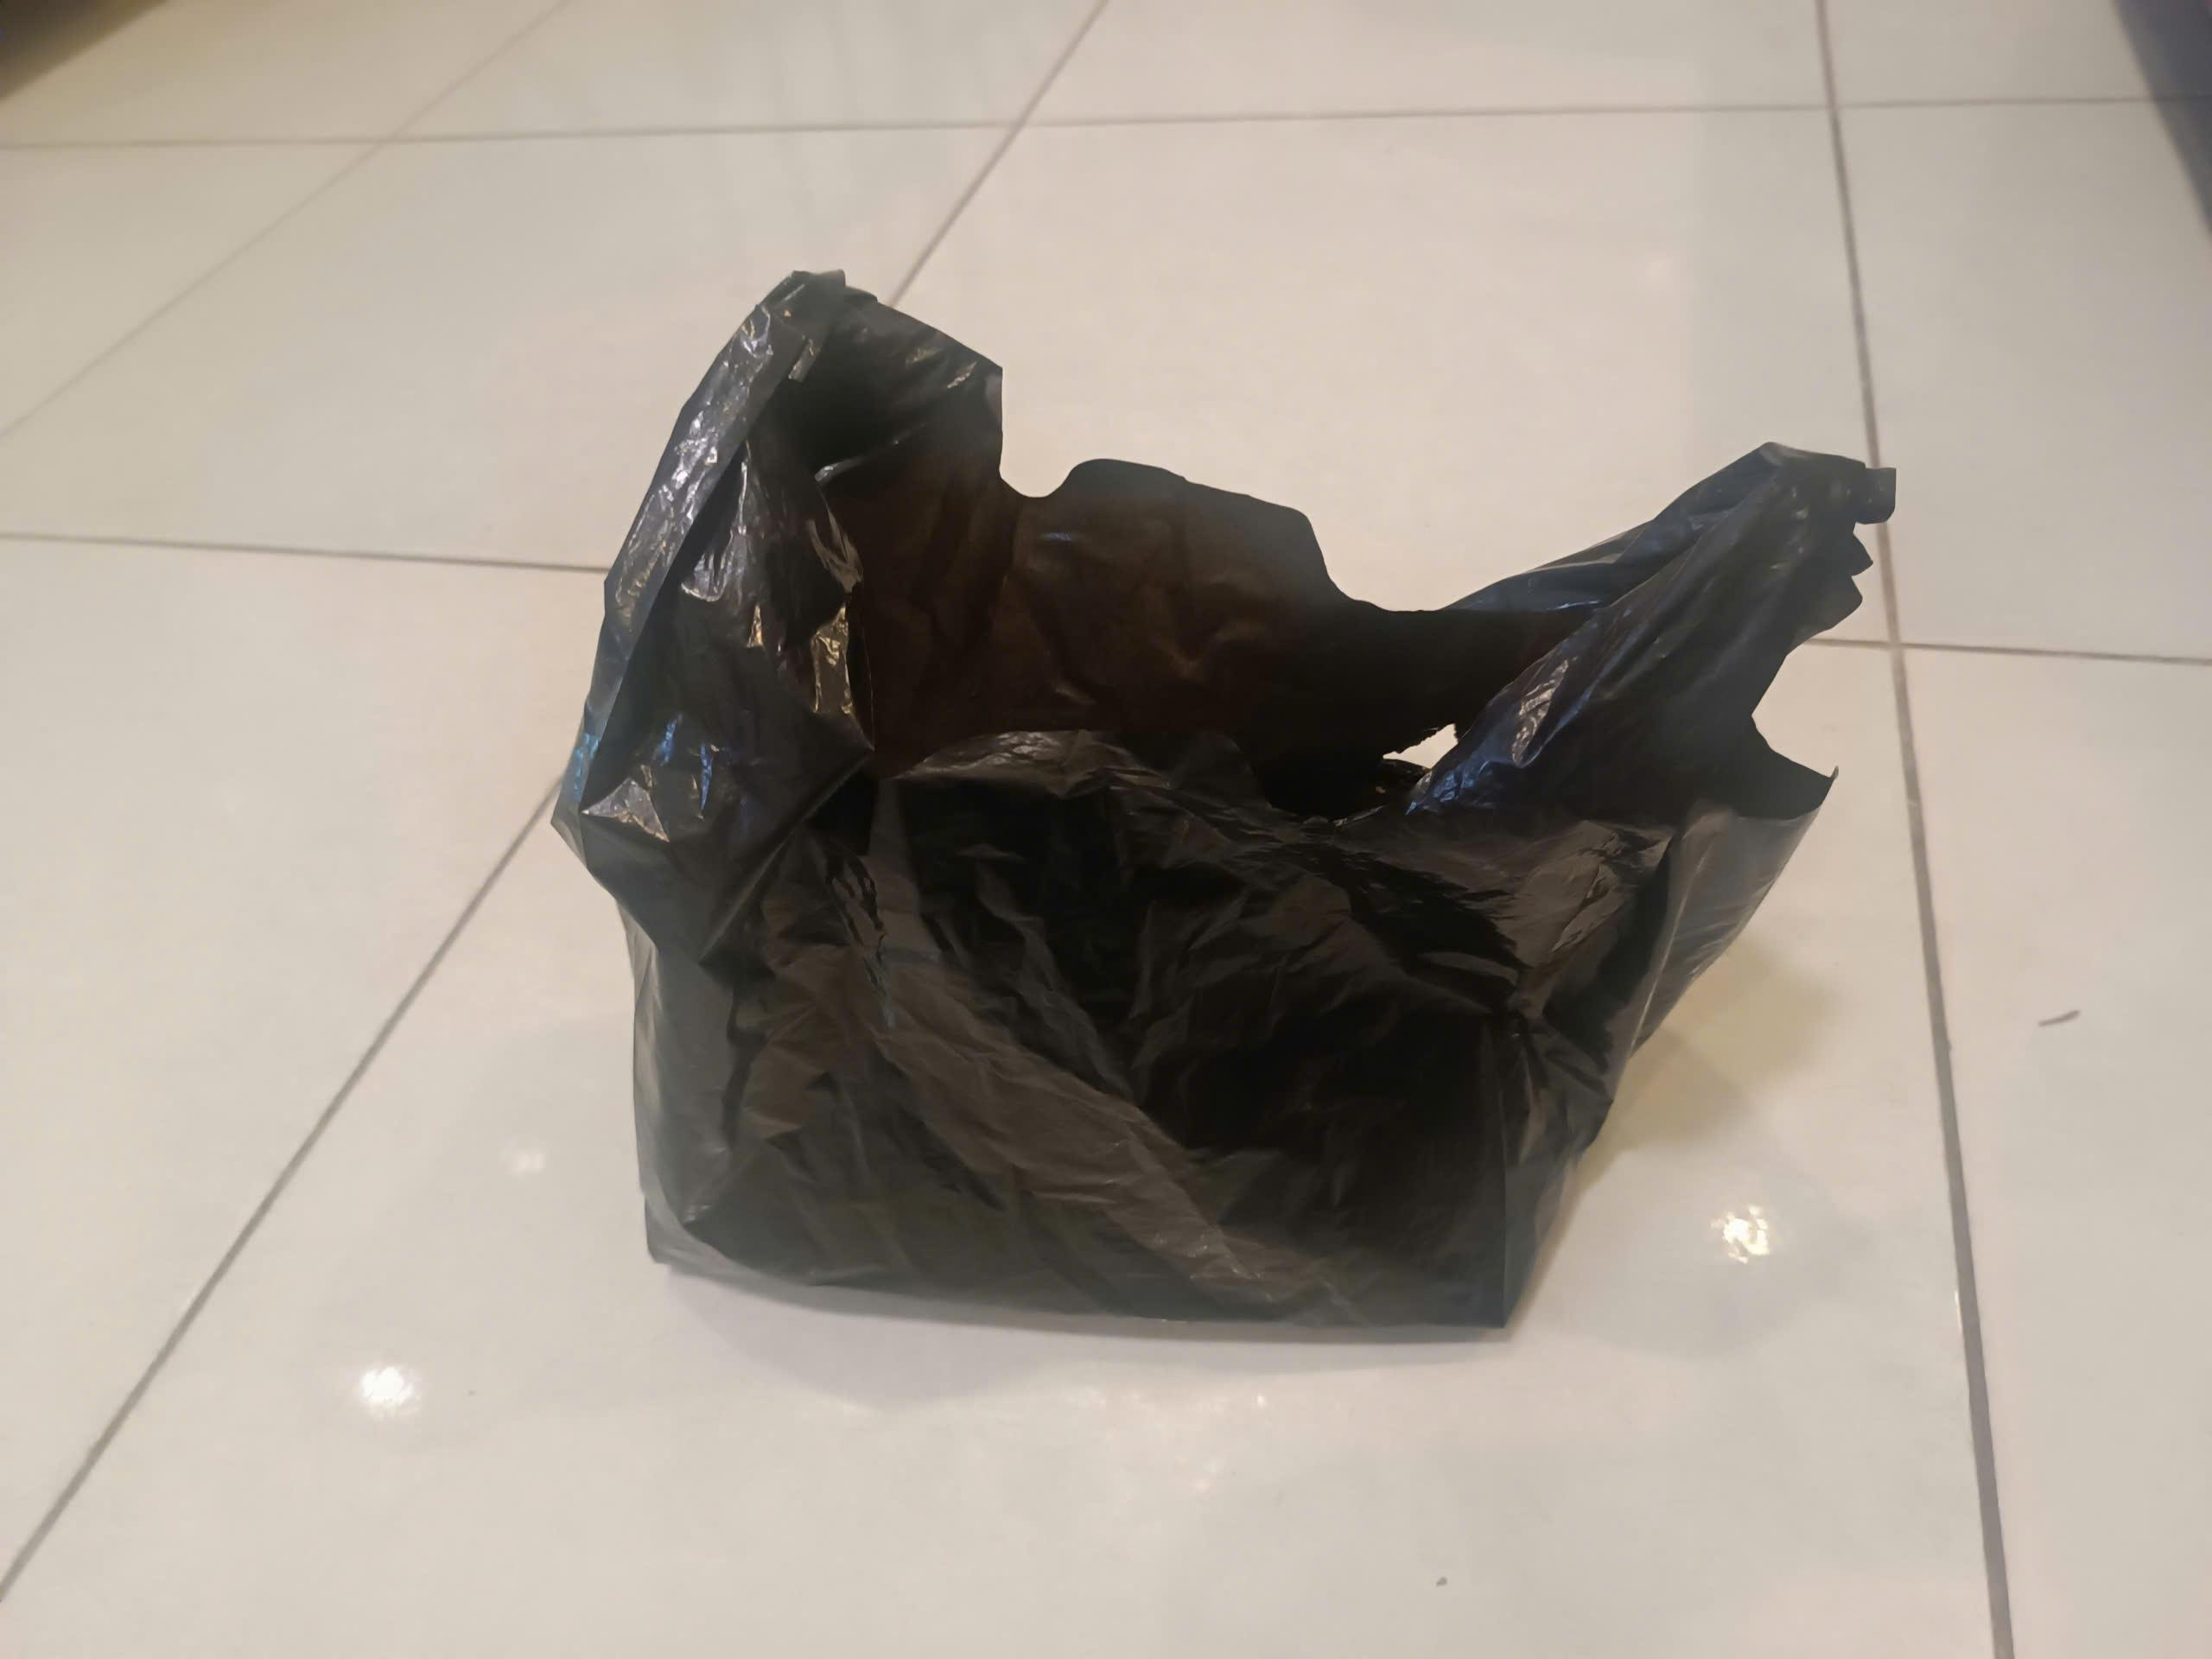Vo co: (542, 265, 1905, 1342)
